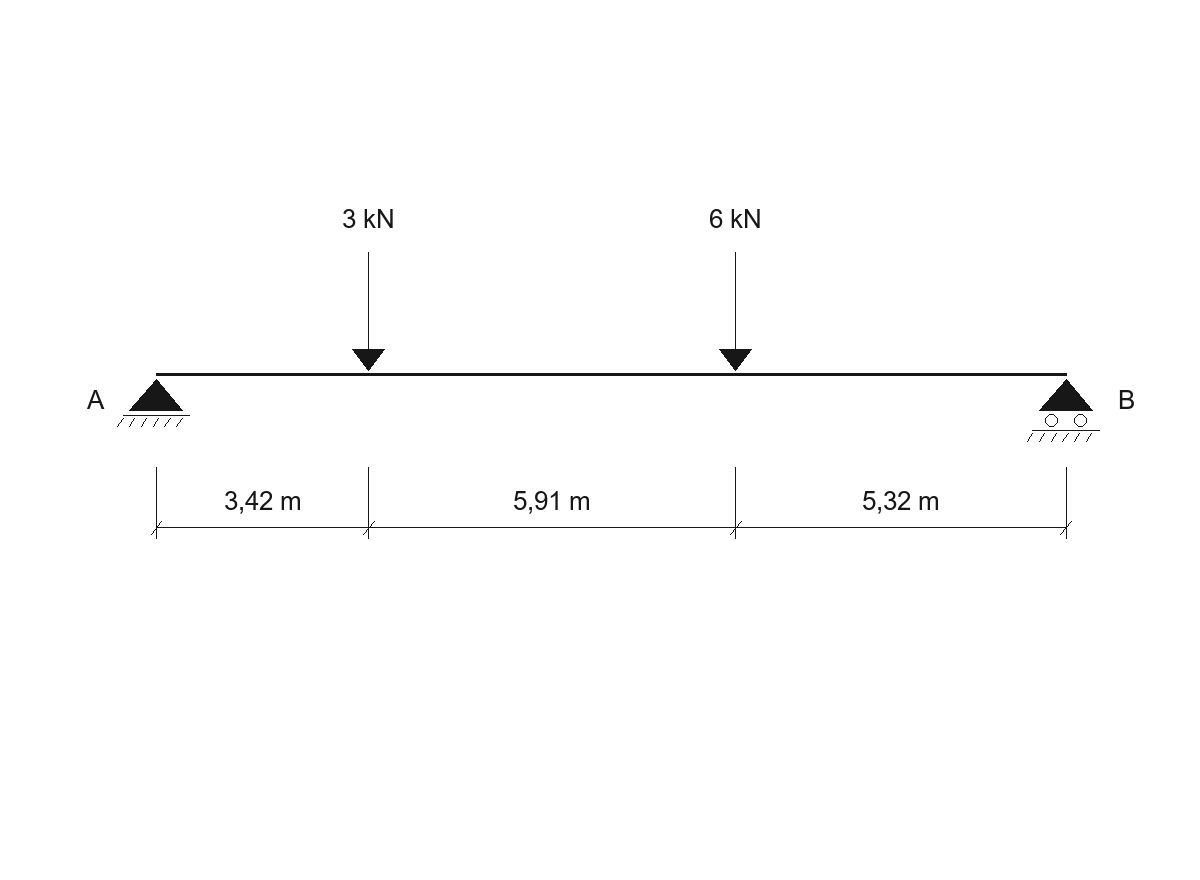pin_support: (117, 379, 190, 427)
point_load: (352, 252, 385, 371), (719, 252, 752, 371)
roller_support: (1027, 379, 1100, 442)
